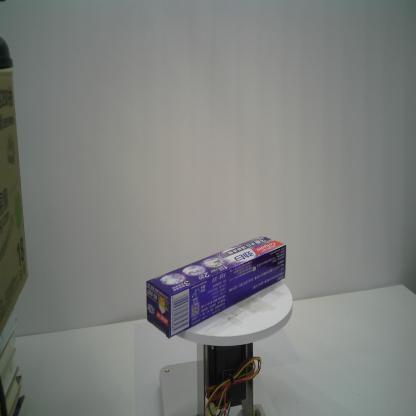Personal Hygiene: (145, 234, 287, 340)
